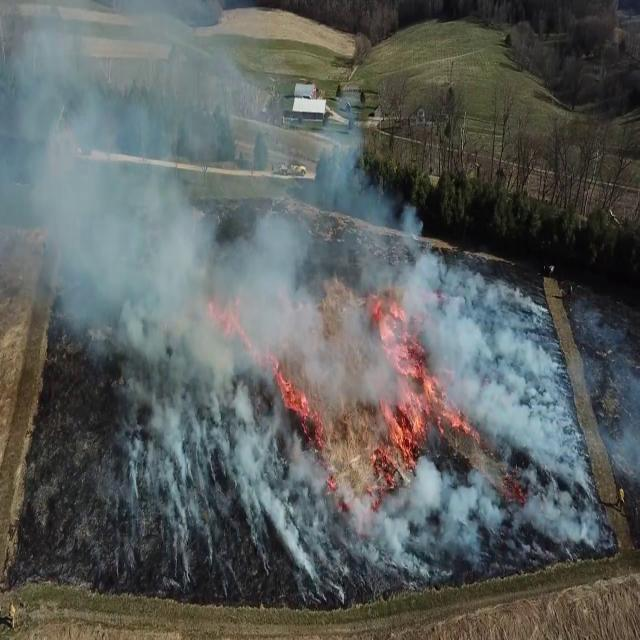Fire: (368, 279, 442, 480), (277, 367, 342, 460)
Smoke: (0, 16, 498, 577)
